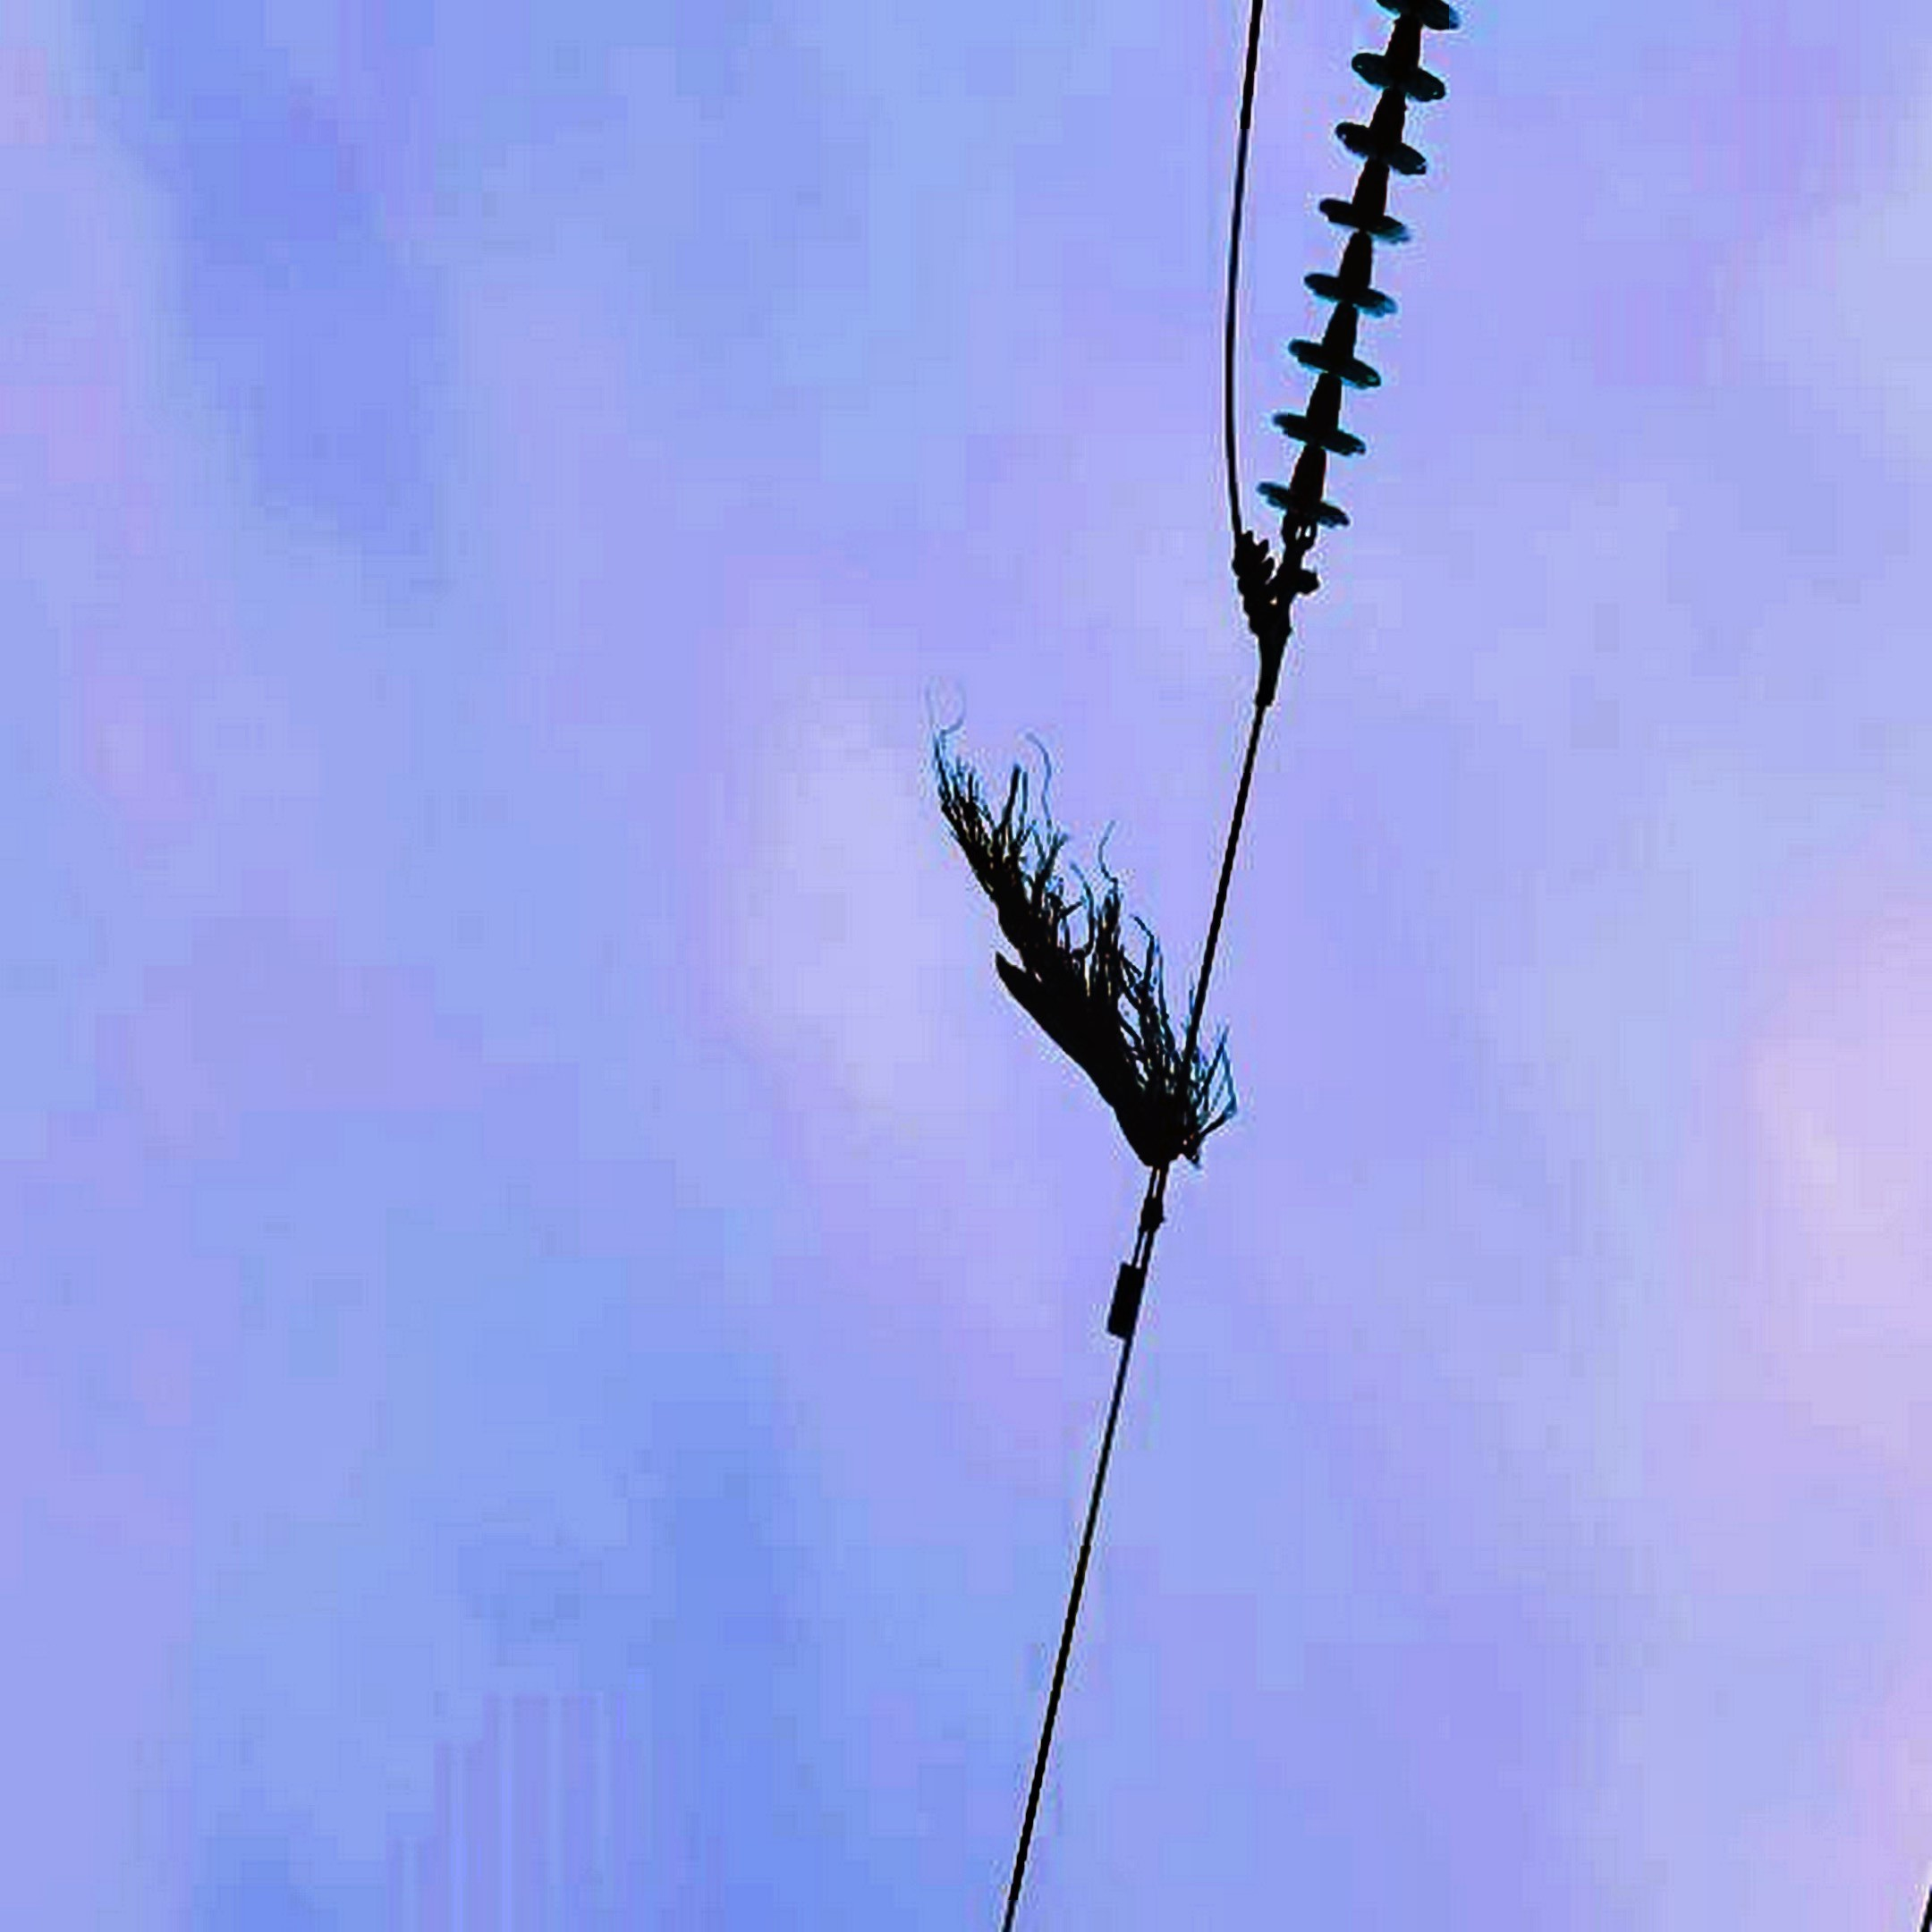wire foreign body: (908, 743, 1284, 1198)
